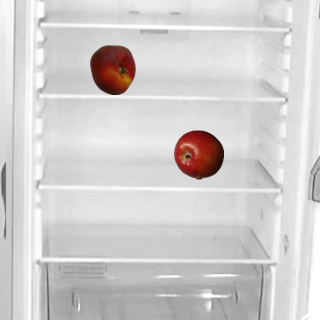Apple Braeburn: (173, 129, 223, 179)
Nectarine Flat: (87, 44, 137, 94)
